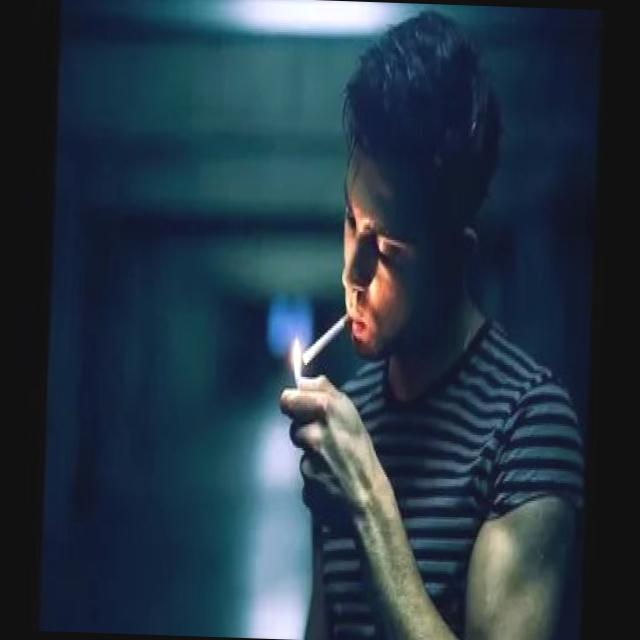cigarette: (296, 308, 351, 378)
